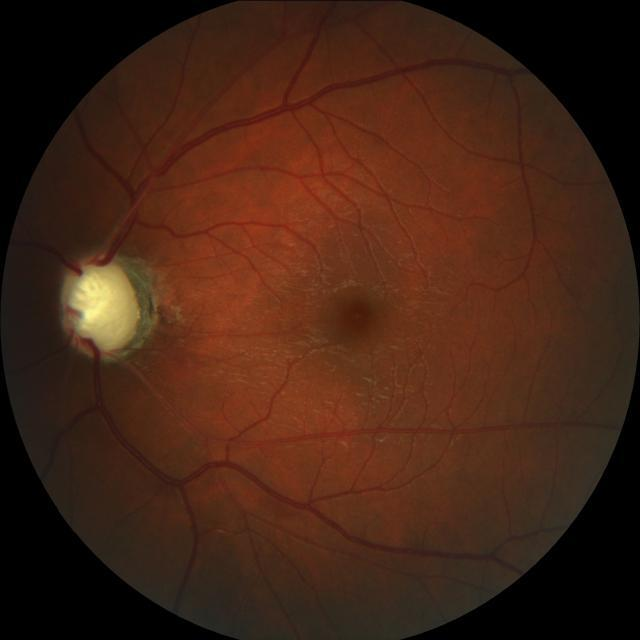OC: (68, 262, 139, 348)
OD: (60, 250, 144, 358)
